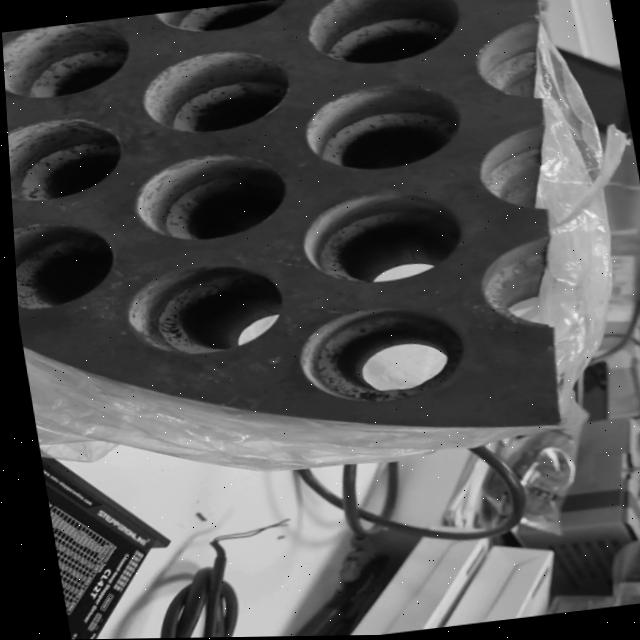Hole: (287, 301, 468, 413), (292, 184, 463, 291), (116, 257, 285, 362), (294, 79, 464, 179), (124, 147, 290, 247), (133, 43, 297, 140), (300, 0, 466, 73), (1, 16, 137, 104), (5, 111, 129, 205), (10, 215, 117, 311), (148, 0, 300, 39)
